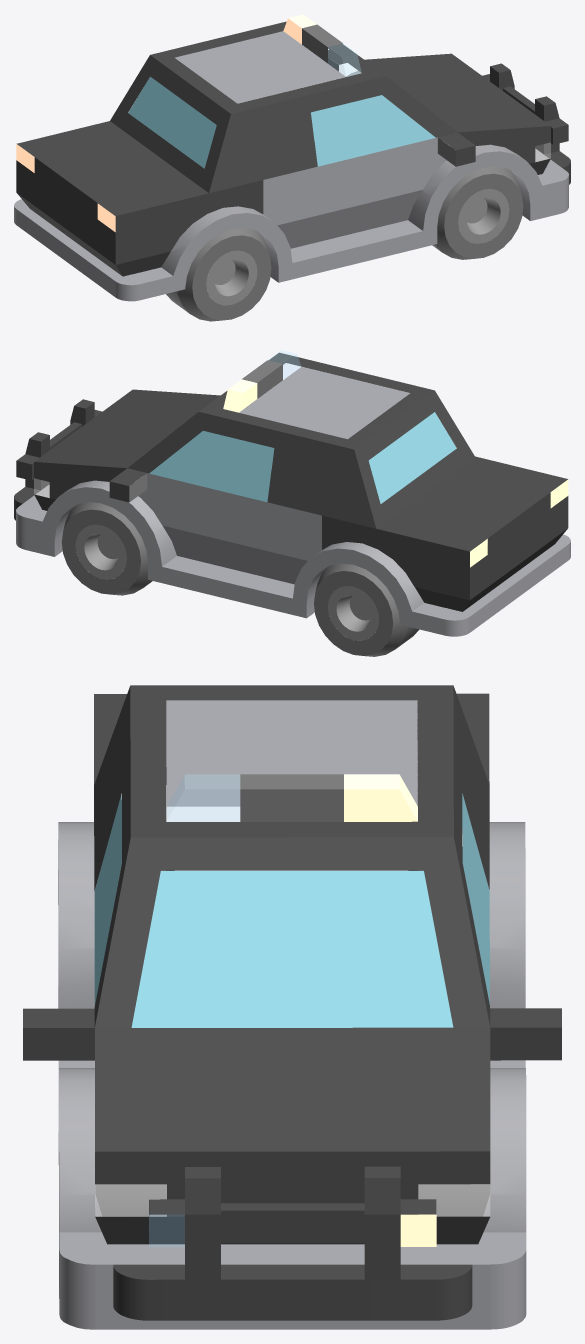
File: Policecar.glb
3 views of the same model, one above another, from view 1: azimuth 30°, elevation 25°; view 2: azimuth 150°, elevation 25°; view 3: azimuth 270°, elevation 25° (orthographic). The views are drawn at different scales.
Visible parts, largest first — view 1: body, wheel_backRight, wheel_frontRight, grill; view 2: body, wheel_backLeft, wheel_frontLeft, grill; view 3: body, grill, wheel_frontRight, wheel_frontLeft.
Part boxes in pixels (left/top/right/bottom): body: left=14, top=14, right=568, bottom=301; wheel_backRight: left=166, top=228, right=271, bottom=321; wheel_frontRight: left=432, top=166, right=523, bottom=259; grill: left=482, top=63, right=570, bottom=184; body: left=16, top=350, right=570, bottom=636; wheel_backLeft: left=314, top=563, right=424, bottom=656; wheel_frontLeft: left=61, top=502, right=152, bottom=595; grill: left=14, top=399, right=101, bottom=520; body: left=23, top=685, right=561, bottom=1329; grill: left=113, top=1166, right=472, bottom=1320; wheel_frontRight: left=59, top=1184, right=166, bottom=1298; wheel_frontLeft: left=418, top=1184, right=490, bottom=1216.
Bounding box in the file's own units: 5.03 × 2.18 × 2.51.
